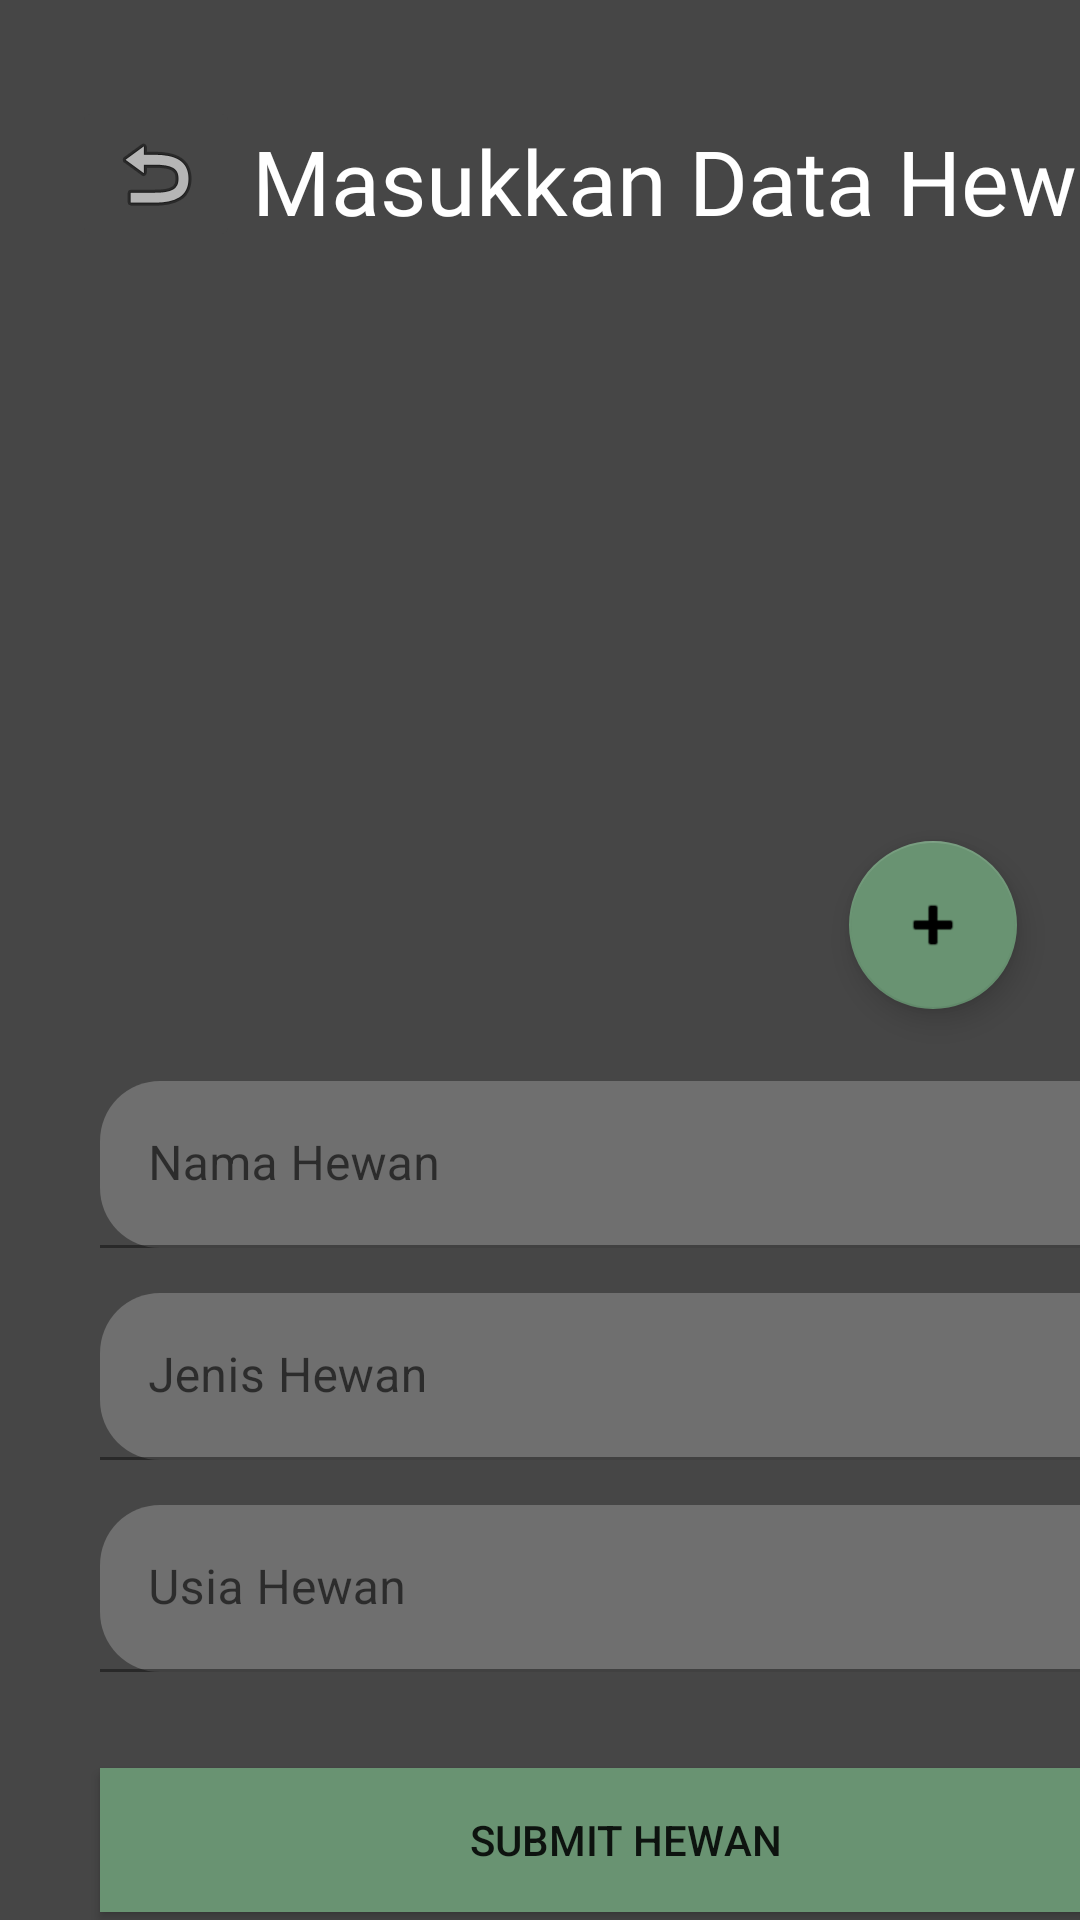

Named icons in this screenshot (1080*1920) and their centers, point (x, y):
add: point (933, 925)
revert: point (157, 174)
